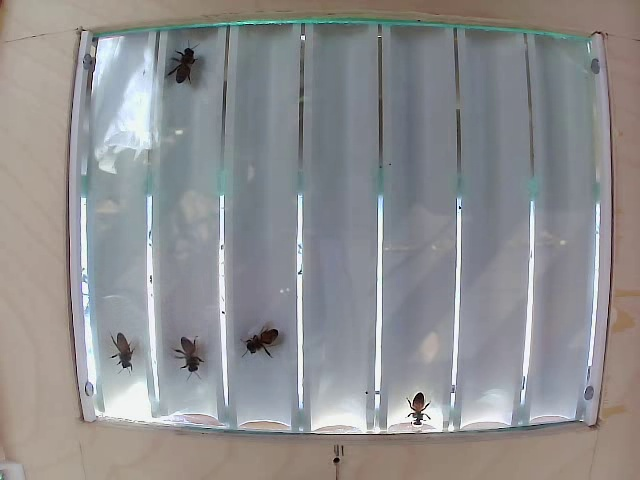bee: (158, 38, 215, 92), (102, 329, 151, 377), (172, 333, 215, 380), (406, 390, 440, 435), (249, 317, 281, 362)
